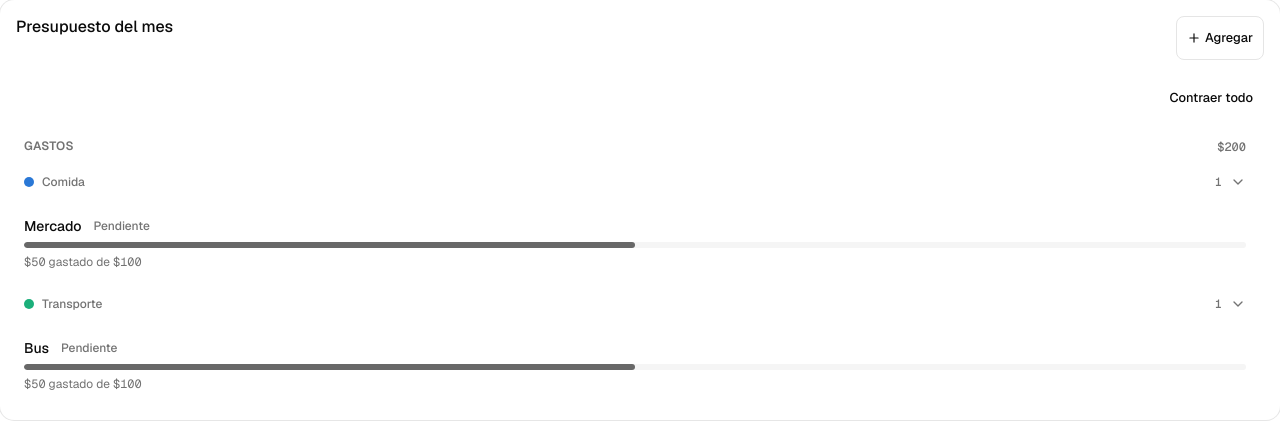
Test case: PanelPresupuesto: contraer/desplegar todo › con todo cerrado no se duplica la pista: el alternante ya dice 'Desplegar todo'
Click the button "Contraer todo" at (1211, 98), box [1158,76,1264,120]
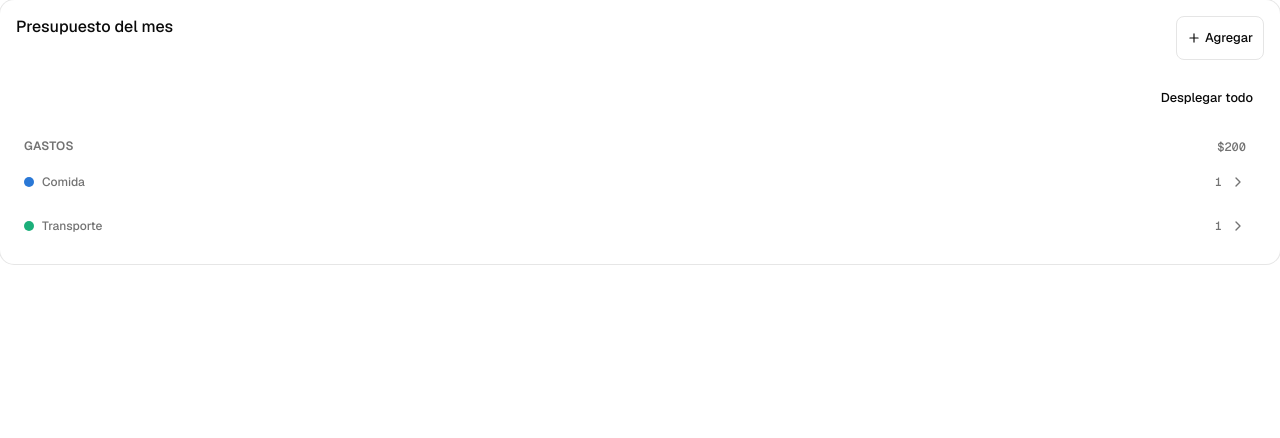
Expected: the button "Desplegar todo" is shown, [1150,76,1264,120]
